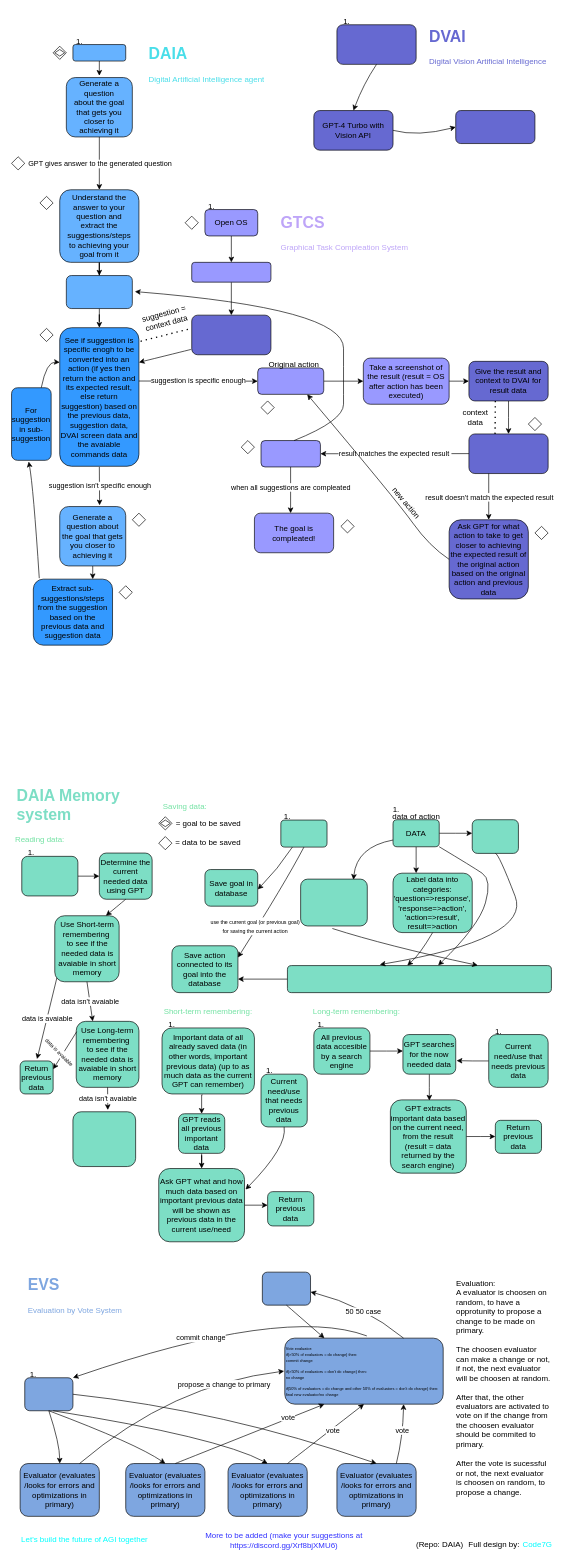
Image size: 569x1566. Some labels were removed from this diagram. The shapes that lost their labels are listed below. From the top down, each one's box as (x1, y1, x2, y2) in pixels, then its label:
(72, 44, 126, 61): User goal
(336, 24, 416, 64): Input: context, screenshot
(455, 110, 535, 144): Return GPTs response
(66, 275, 132, 309): For suggestion in suggestions
(191, 262, 271, 282): Take a screenshot
(191, 314, 271, 355): Give the screenshot to DVAI and return the DVAI screen data
(257, 367, 324, 394): Run/execute the action on OS
(260, 440, 320, 467): Move to next suggestion
(468, 433, 548, 474): Make GPT compare the expected result with the gotten result
(280, 819, 327, 847): Goal
(472, 819, 518, 853): Generate a title with GPT
(21, 856, 78, 896): Need/use that needs previous data
(300, 878, 367, 926): Extract important data with GPT based on the previous data
(287, 965, 551, 993): Action: id | action_id | title | category | data | important_data
(72, 1111, 136, 1167): Return all the previous data from Short-term remembering as previous data
(262, 1271, 311, 1305): Create new Evaluator
(24, 1377, 73, 1411): Primary
